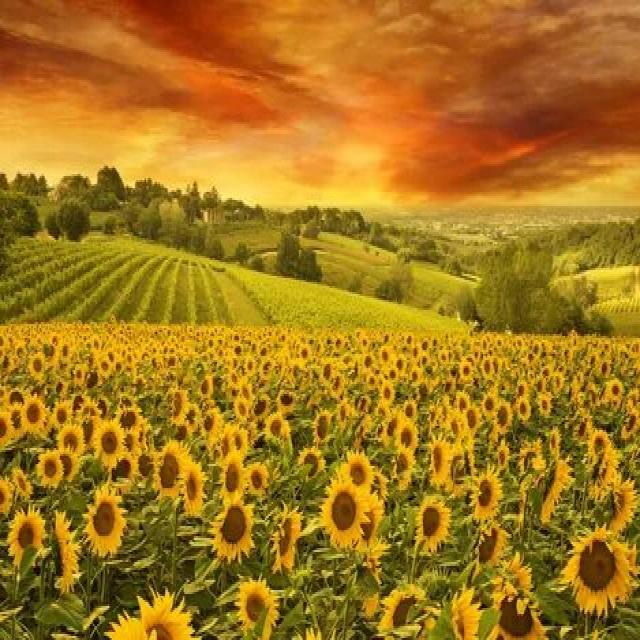sunflower: (562, 522, 629, 618), (490, 573, 548, 640), (314, 474, 366, 542), (80, 486, 127, 560), (210, 496, 257, 564), (4, 502, 49, 572), (232, 566, 273, 634), (416, 488, 451, 560), (91, 414, 127, 470), (154, 440, 186, 502), (18, 388, 46, 438), (426, 432, 450, 488), (393, 412, 419, 458), (165, 390, 193, 428), (310, 408, 336, 448), (490, 396, 514, 436), (263, 412, 291, 446), (30, 348, 49, 386), (227, 394, 251, 424), (607, 372, 624, 406)
